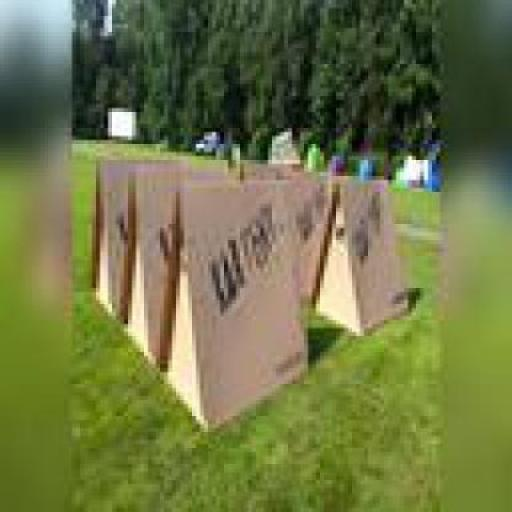cardboard: (160, 168, 304, 424), (120, 156, 252, 368), (88, 148, 188, 308), (316, 176, 408, 336), (304, 168, 336, 300)
